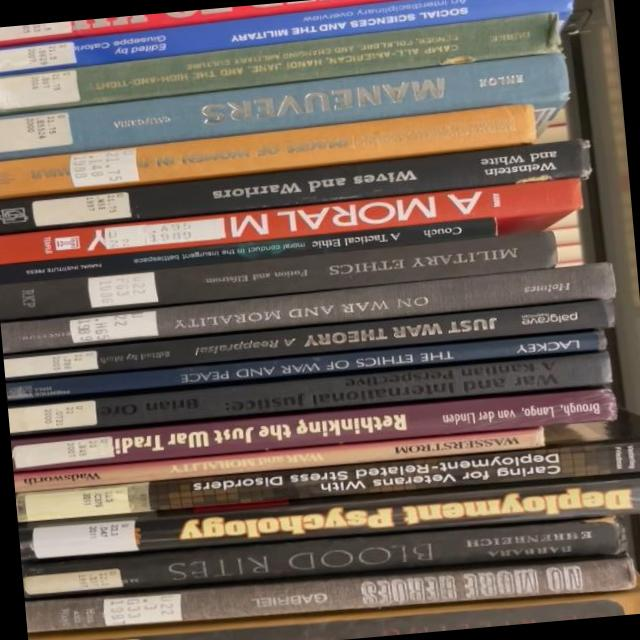book: (0, 51, 569, 160), (0, 10, 559, 114), (0, 138, 591, 234), (19, 473, 640, 561), (1, 263, 613, 352), (0, 102, 537, 199), (16, 439, 640, 522), (0, 229, 557, 321), (10, 388, 615, 471), (22, 515, 626, 598), (0, 178, 581, 264), (4, 298, 613, 380), (8, 352, 608, 434), (25, 555, 634, 633), (0, 0, 572, 77), (4, 329, 606, 401), (29, 582, 640, 640), (13, 428, 541, 492), (0, 216, 496, 284), (0, 0, 395, 47)
